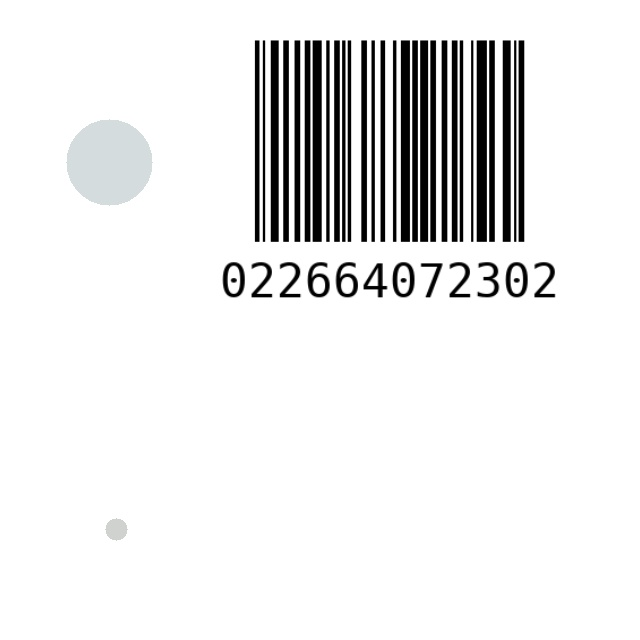barcode: (221, 28, 558, 345)
